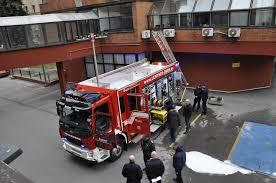Fire-engine: (49, 58, 195, 167)
